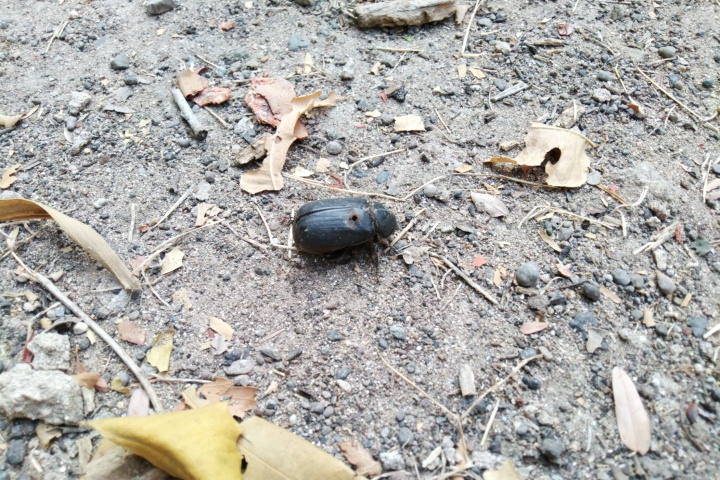INS-A: (282, 194, 409, 261)
